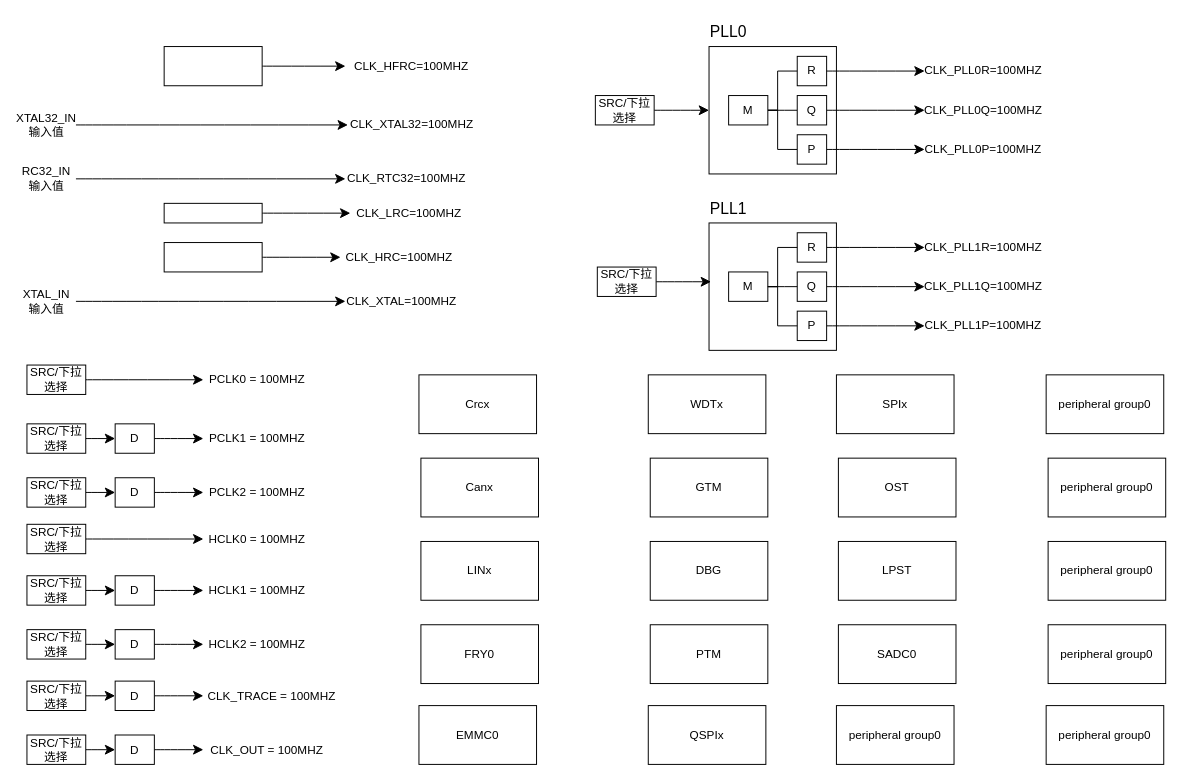
This 1183x781 diagram has some shape labels left out. Here are the shapes that lost their labels. From the top down, the centre of each, then its label:
At (212,66): "FHRC".
At (212,212): "LRC".
At (212,257): "HRC".
